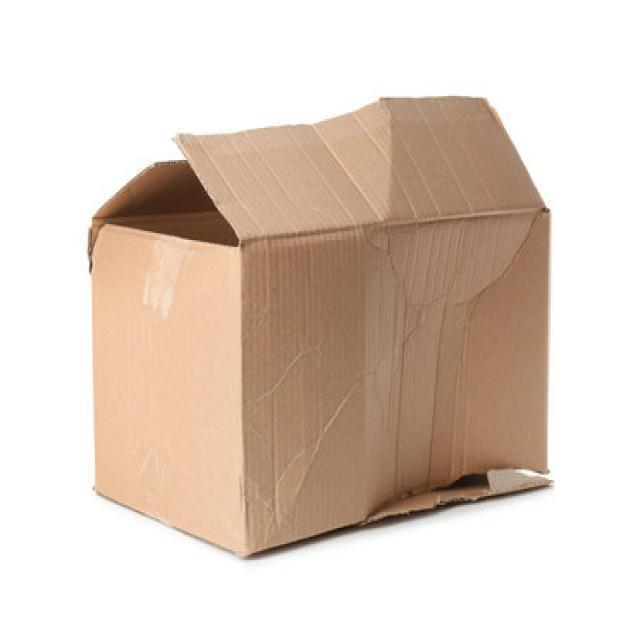damaged: (360, 454, 553, 521)
